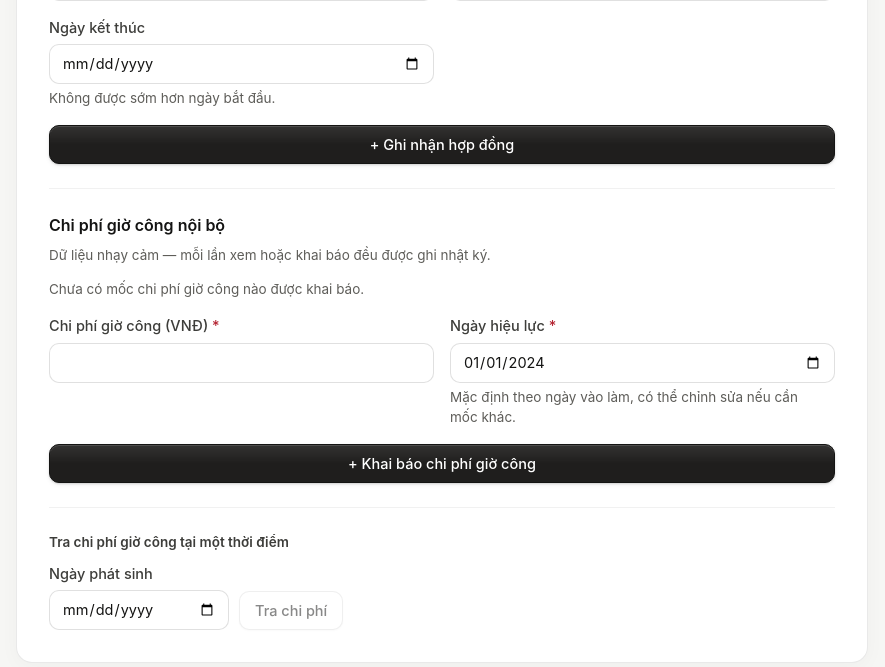
Scenario: EmployeeDetailPage — Chi phí giờ công nội bộ (NCL-07-CN-004) › TC-01: VT-06 (Nhân sự) khai báo mốc chi phí giờ công mới thành công thì danh sách cập nhật ngay
(page scrolled)
Check: the element with test id "hourly-rate-section" is shown, box [49,213,835,630]
Step 1. Type "300000" into the field labelled "Chi phí giờ công (VNĐ) *" → x=242, y=363, box [49,343,434,383]
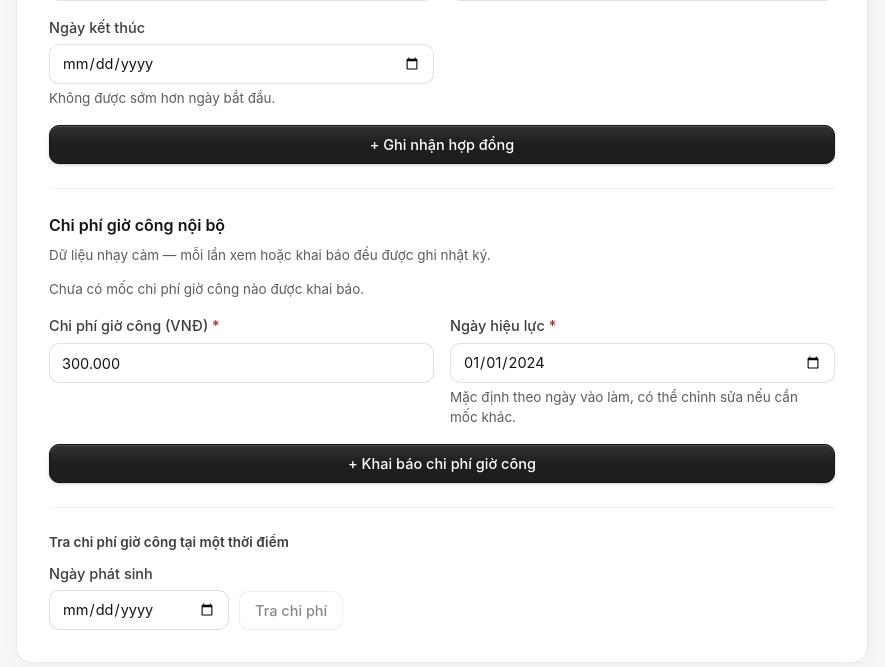
Step 2. Type "2026-03-01" into the date field labelled "Ngày hiệu lực *" → x=642, y=363, box [450,343,835,383]
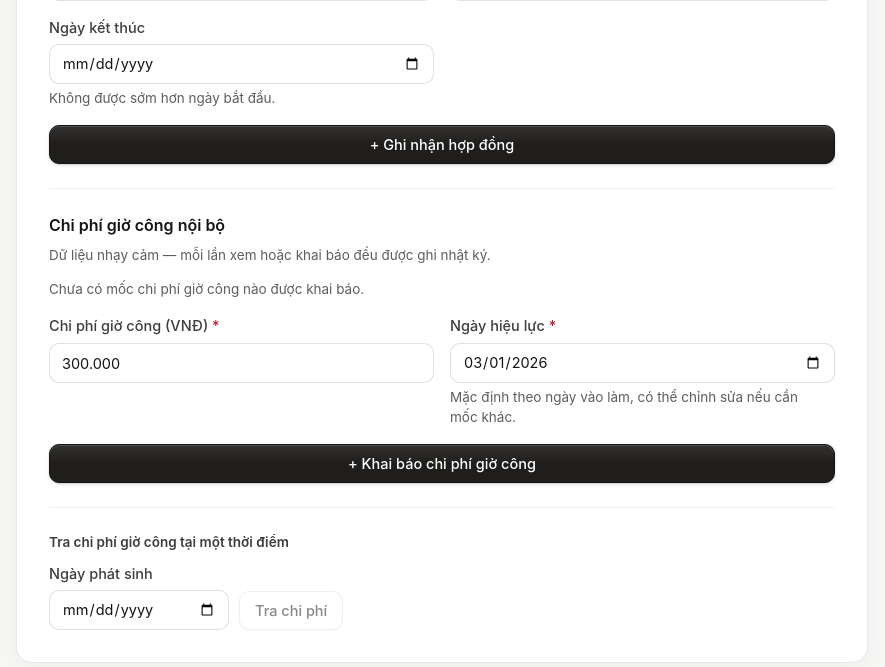
Step 3. Click the button "+ Khai báo chi phí giờ công" → x=442, y=463, box [49,444,835,483]
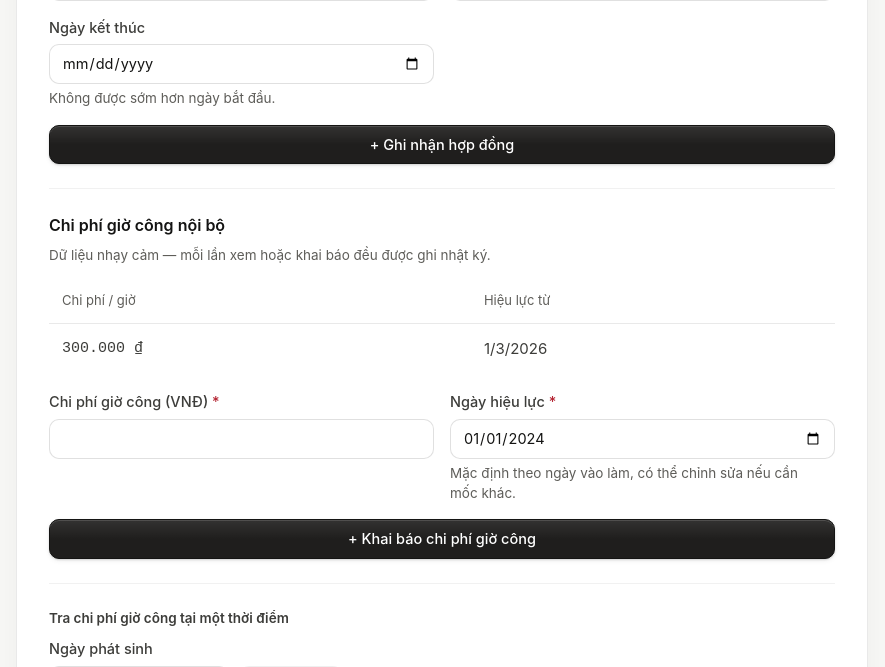
Check: the table with test id "hourly-rate-table" is shown, box [49,279,835,375]
